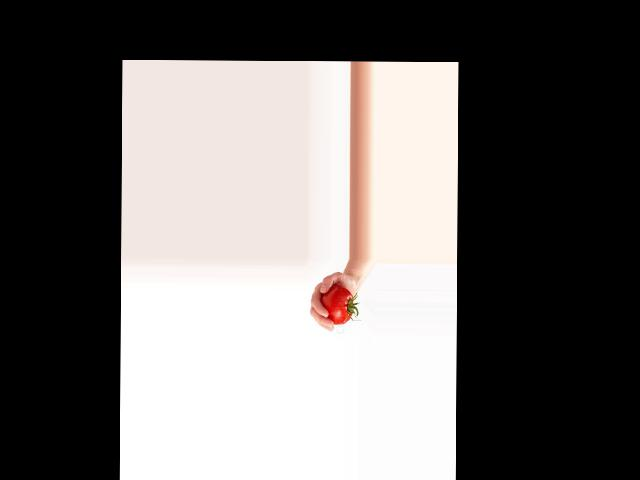tomato: (320, 286, 353, 324)
